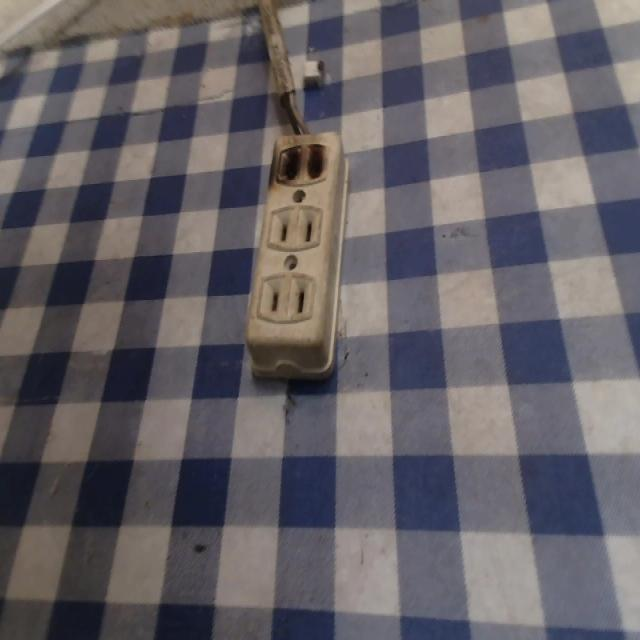-: (274, 139, 334, 189)
